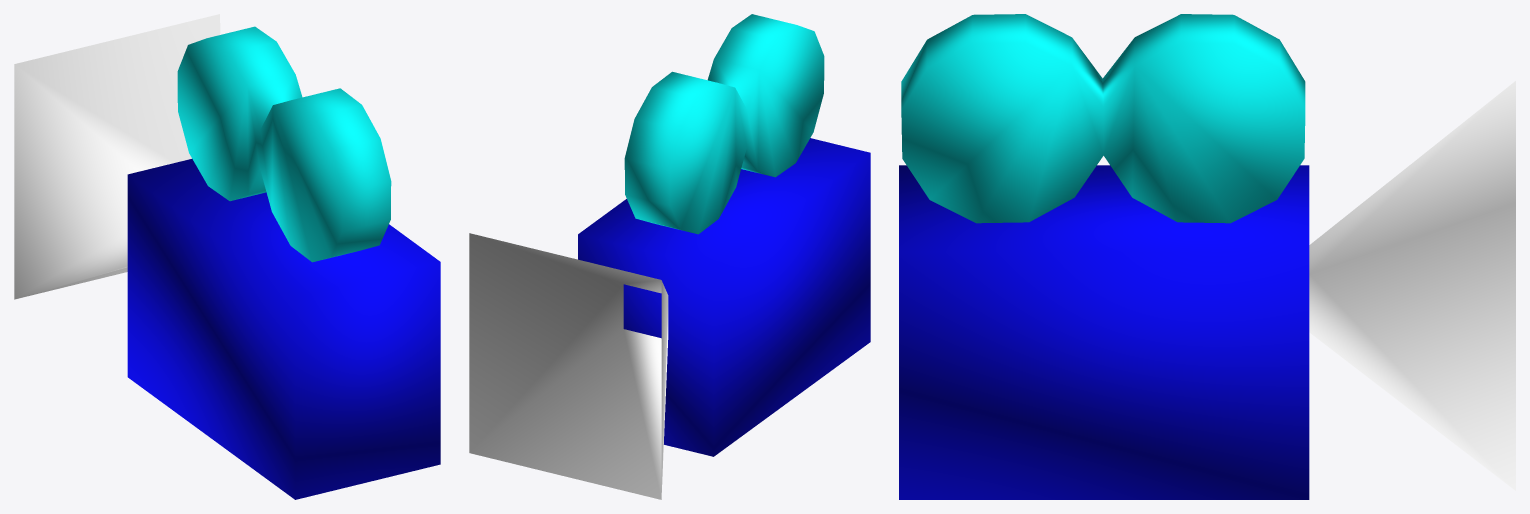
File: CAMERA.glb
3 renders of one model, left to right at view 1: azimuth 30°, elevation 25°; view 2: azimuth 150°, elevation 25°; view 3: azimuth 270°, elevation 25°, orthographic. The views are drawn at different scales.
Visible parts, largest first — view 1: Mesh; view 2: Mesh; view 3: Mesh.
Part boxes in pixels (x1=…): Mesh: x1=14, y1=14, x2=440, y2=499; Mesh: x1=469, y1=14, x2=870, y2=499; Mesh: x1=899, y1=14, x2=1515, y2=499.
Bounding box in the file's own units: 0.4244 × 0.6911 × 0.9023.
